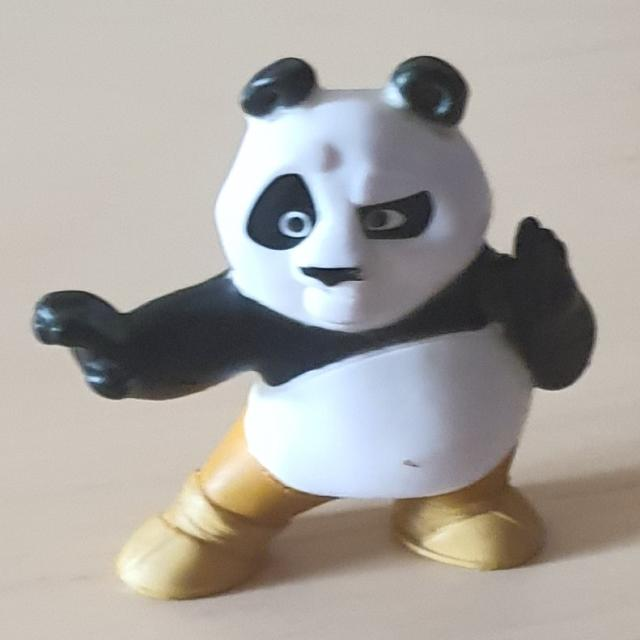Panda: (32, 56, 595, 599)
